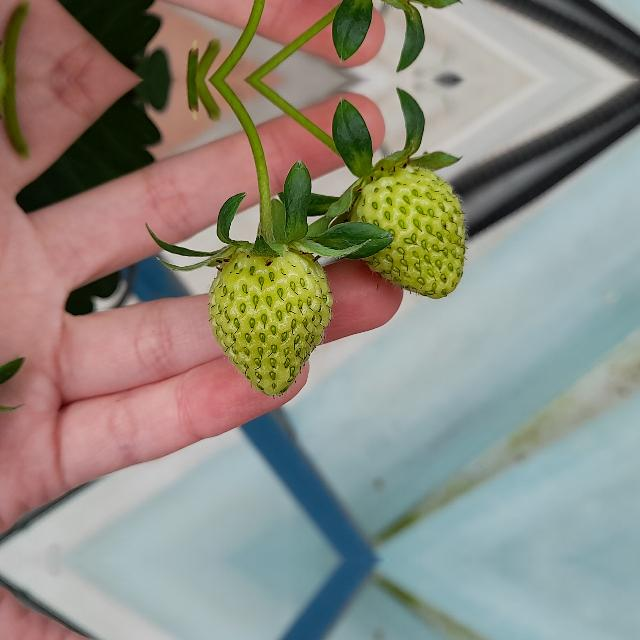Health_25: (208, 248, 332, 396)
